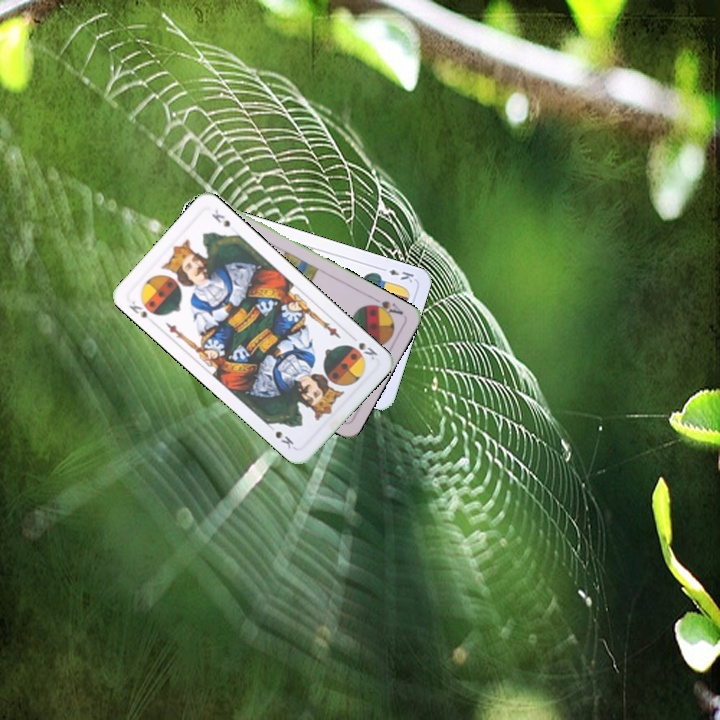EK: (376, 263, 416, 285)
SA: (365, 293, 406, 321)
SK: (355, 338, 380, 364), (125, 296, 150, 321)
